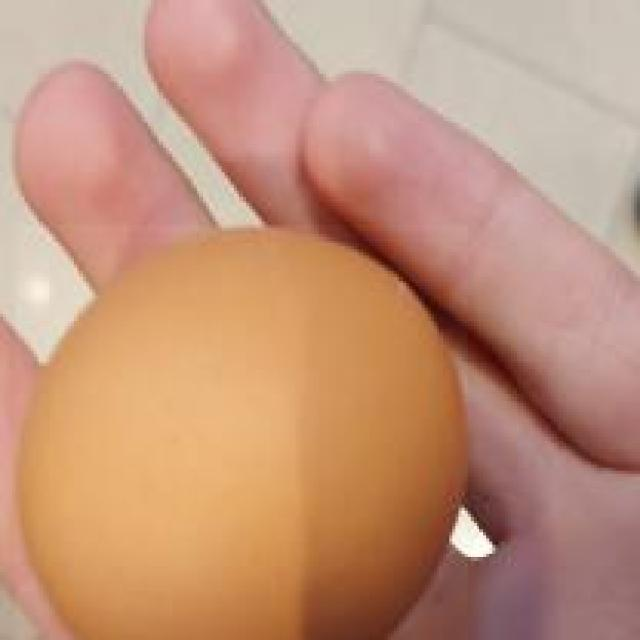egg: (16, 224, 471, 640)
